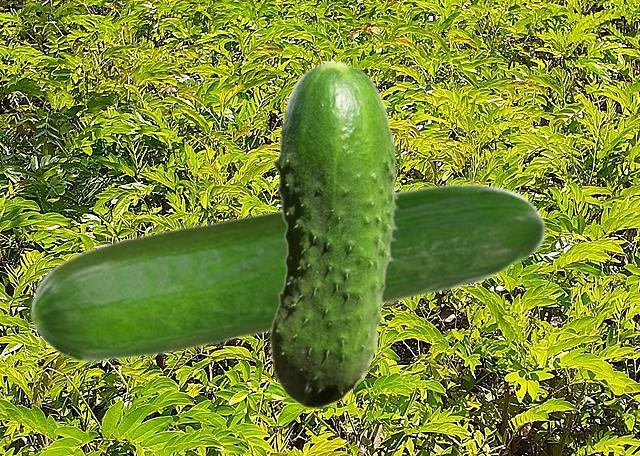cucumber: (29, 182, 545, 363), (269, 59, 398, 408)
